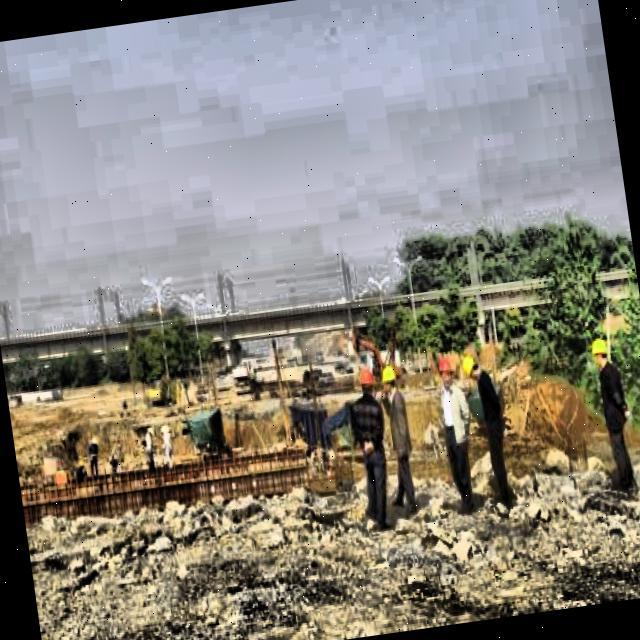helmet: (352, 360, 379, 403), (586, 332, 612, 376), (431, 352, 456, 392), (378, 361, 400, 397), (459, 354, 482, 384)
